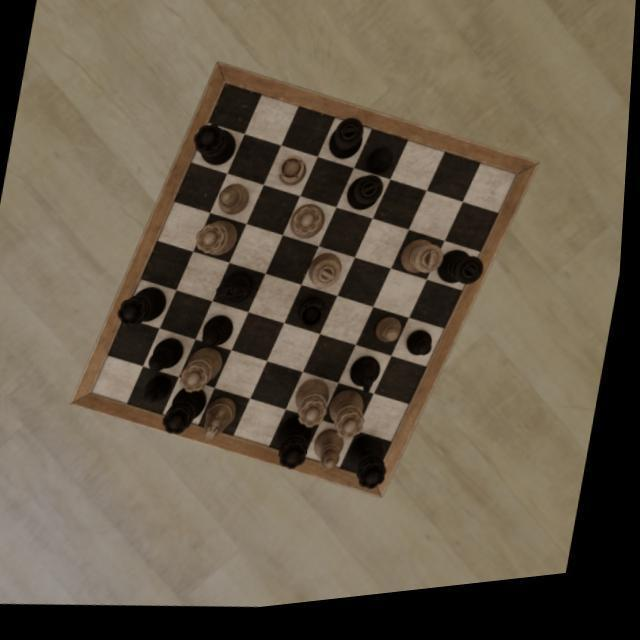chess-table-corners: (370, 469, 396, 502), (88, 376, 110, 406), (218, 77, 242, 102), (504, 176, 524, 200)
